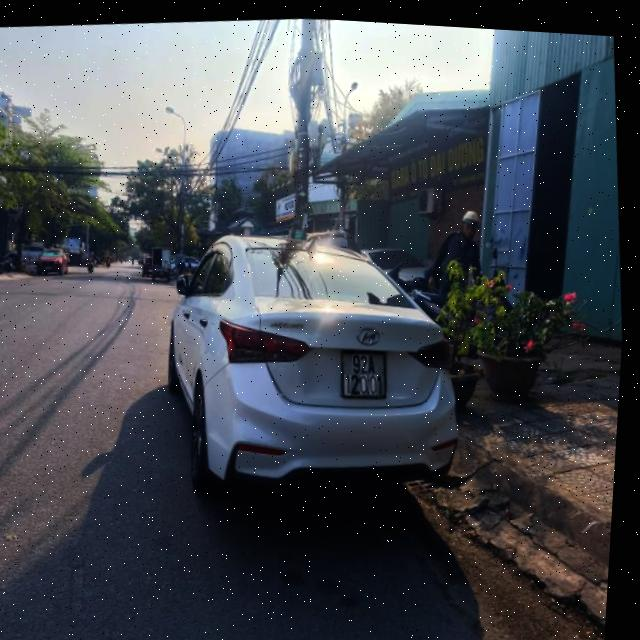car: (141, 212, 481, 541)
plate: (330, 341, 398, 407)
